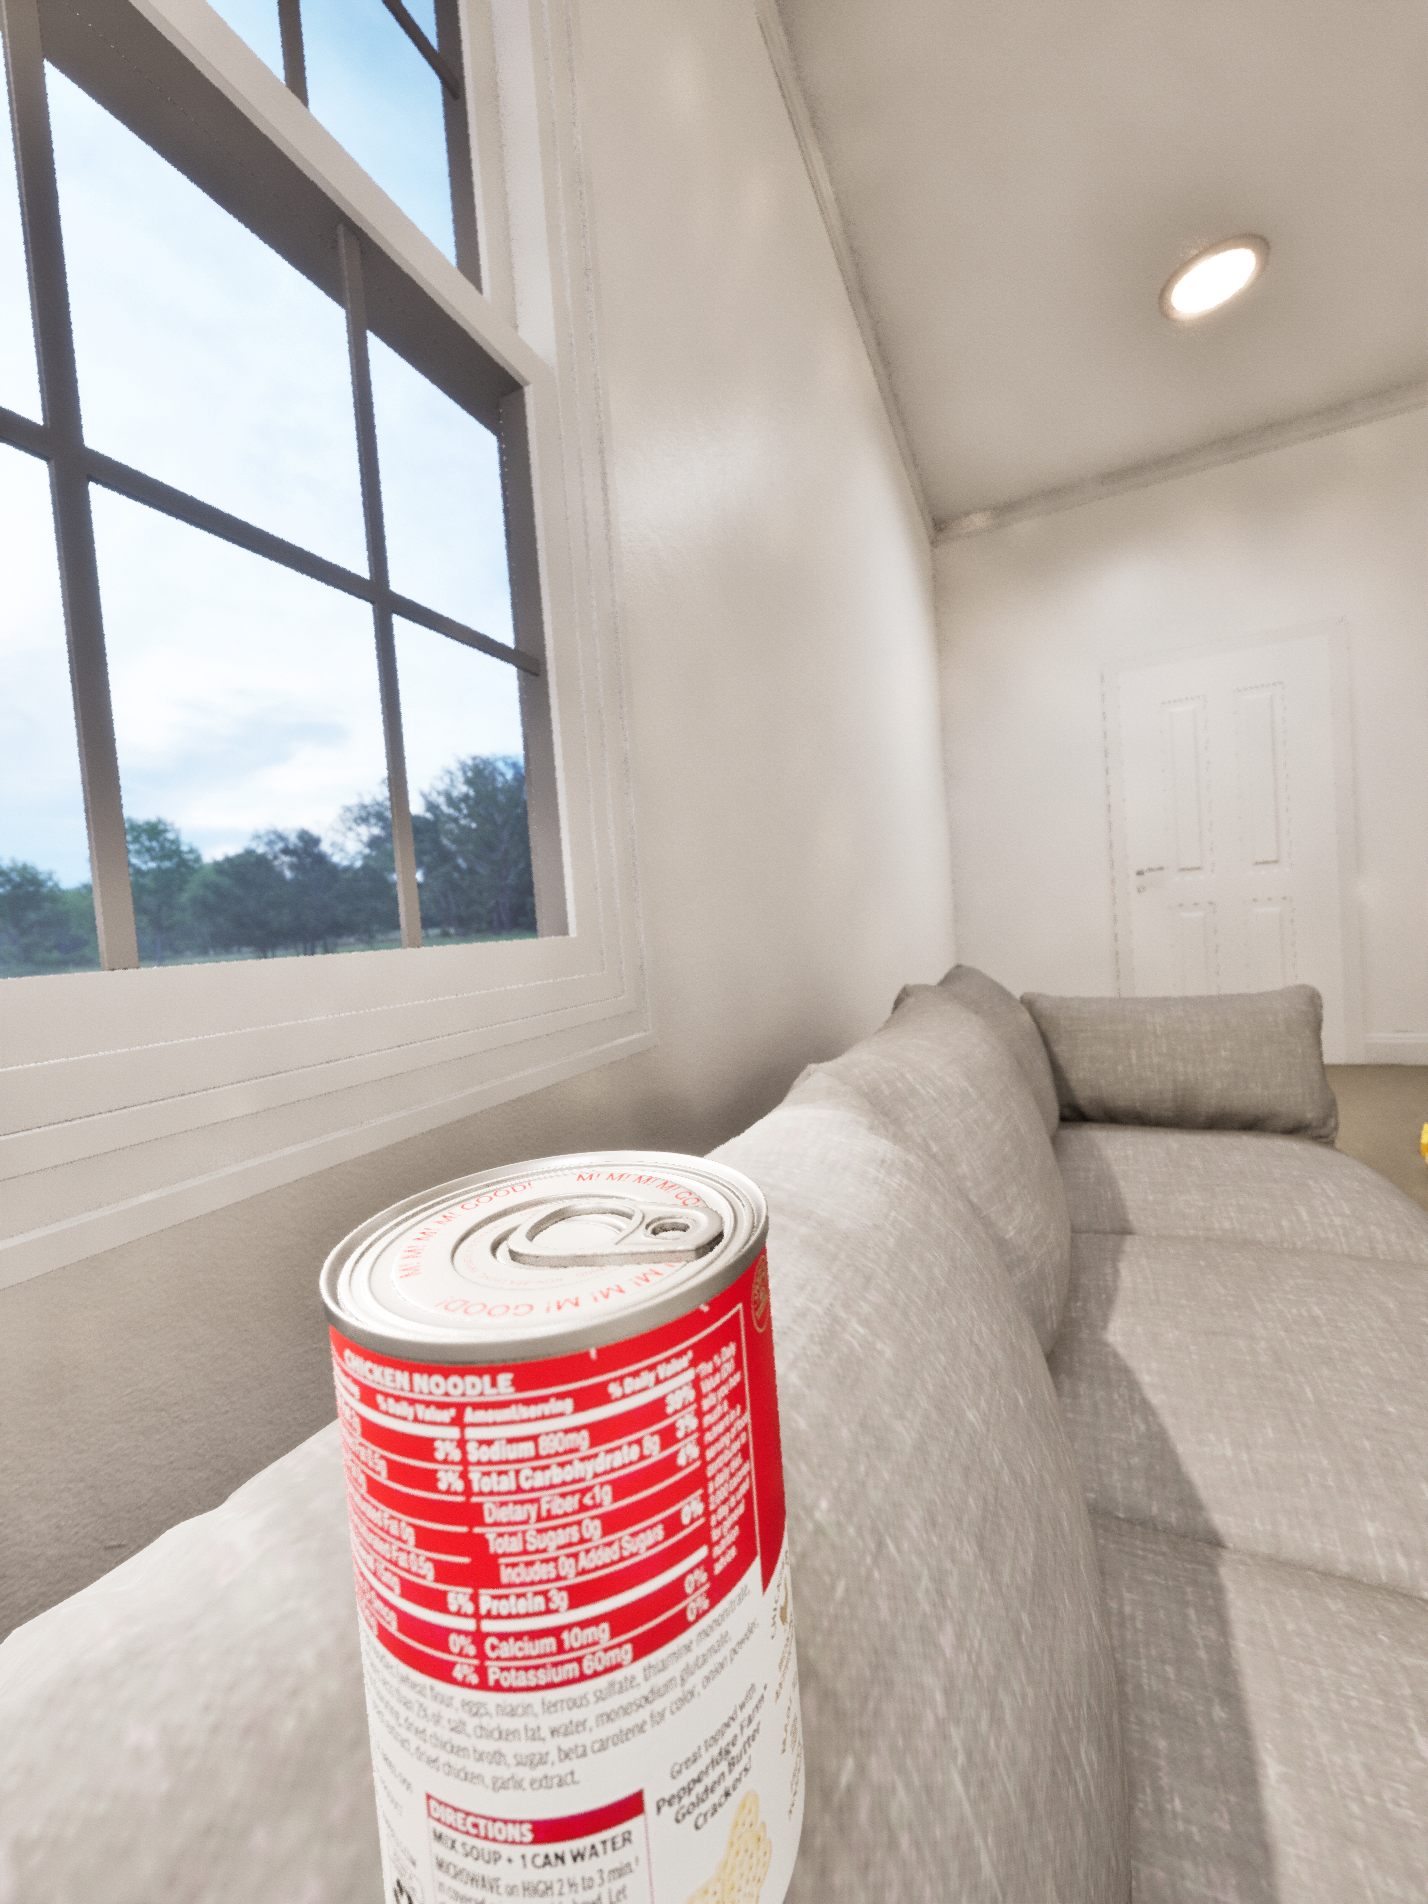cheerios: (1426, 1153, 1428, 1169)
soup: (319, 1150, 805, 1904)
